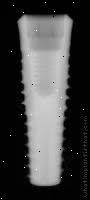AGS Medikal: (17, 15, 73, 187)
